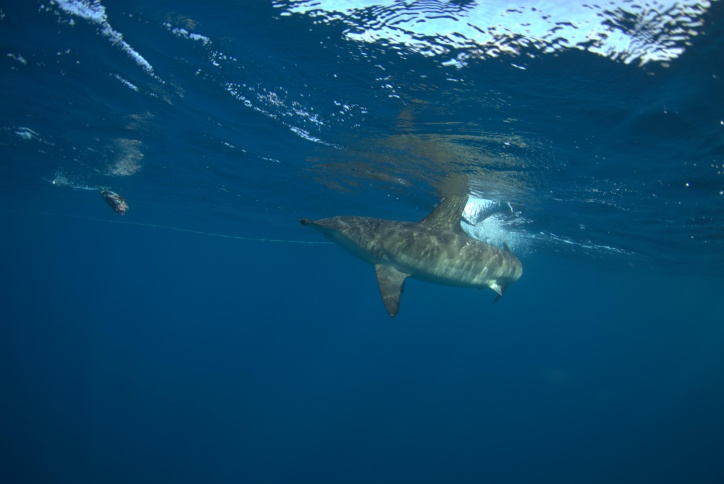Hammer: (280, 175, 538, 332)
